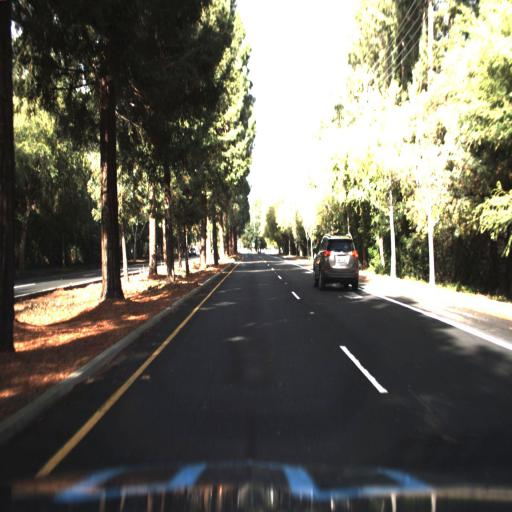car: (312, 233, 359, 292)
